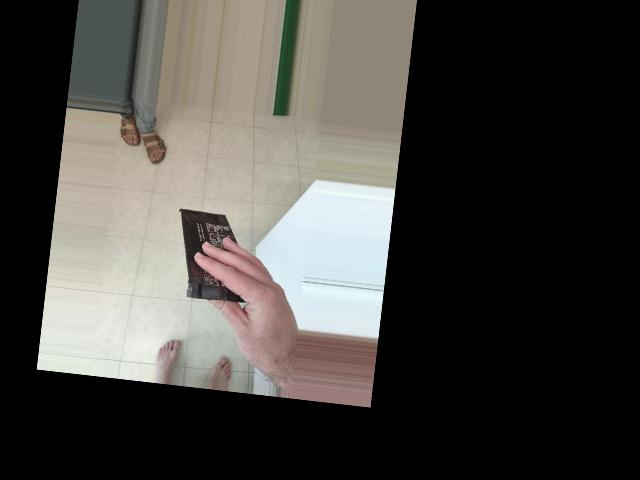chocolate: (99, 163, 212, 262)
